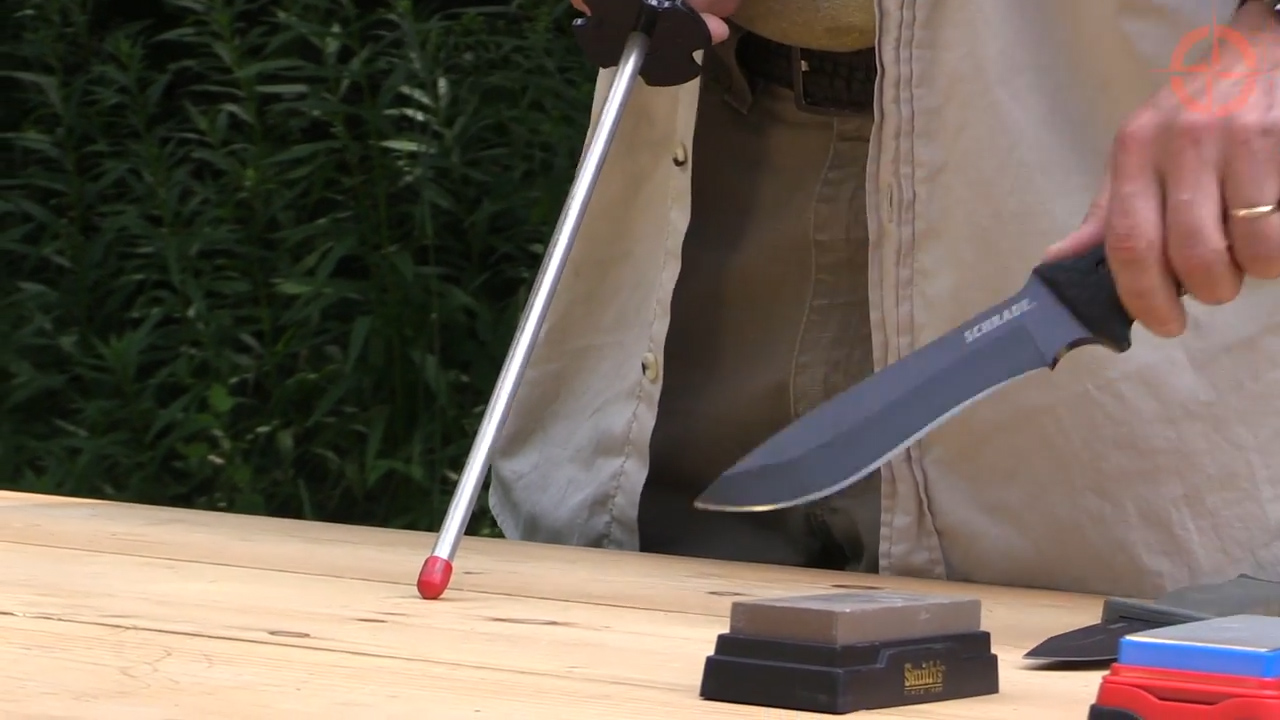knife: (670, 166, 1280, 534)
